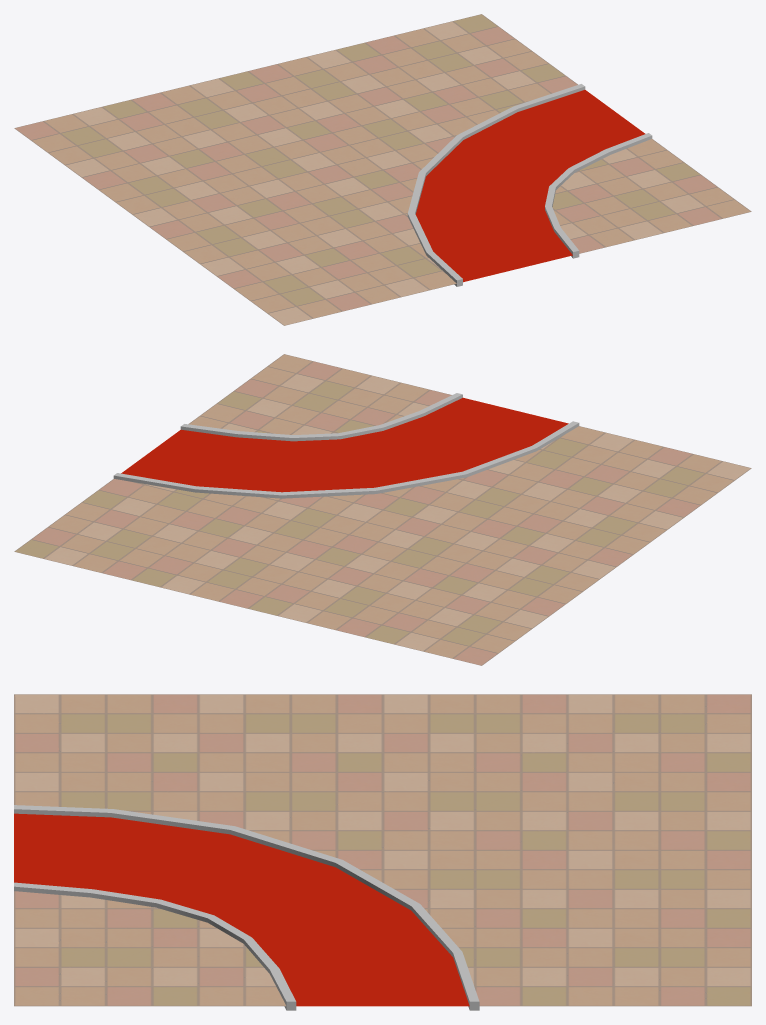
The model's file is Set_C_Tiles_08.fbx.
3 renders of one model, top to bottom at view 1: azimuth 30°, elevation 25°; view 2: azimuth 150°, elevation 25°; view 3: azimuth 270°, elevation 25°, orthographic. The views are drawn at different scales.
Parts seen in each view (by area): view 1: Set_C_Tiles_08; view 2: Set_C_Tiles_08; view 3: Set_C_Tiles_08.
Part boxes in pixels (<box>): Set_C_Tiles_08: <box>14,14,751,325</box>; Set_C_Tiles_08: <box>14,354,751,665</box>; Set_C_Tiles_08: <box>14,694,751,1010</box>.
Bounding box in the file's own units: 1500 × 1500 × 20.
